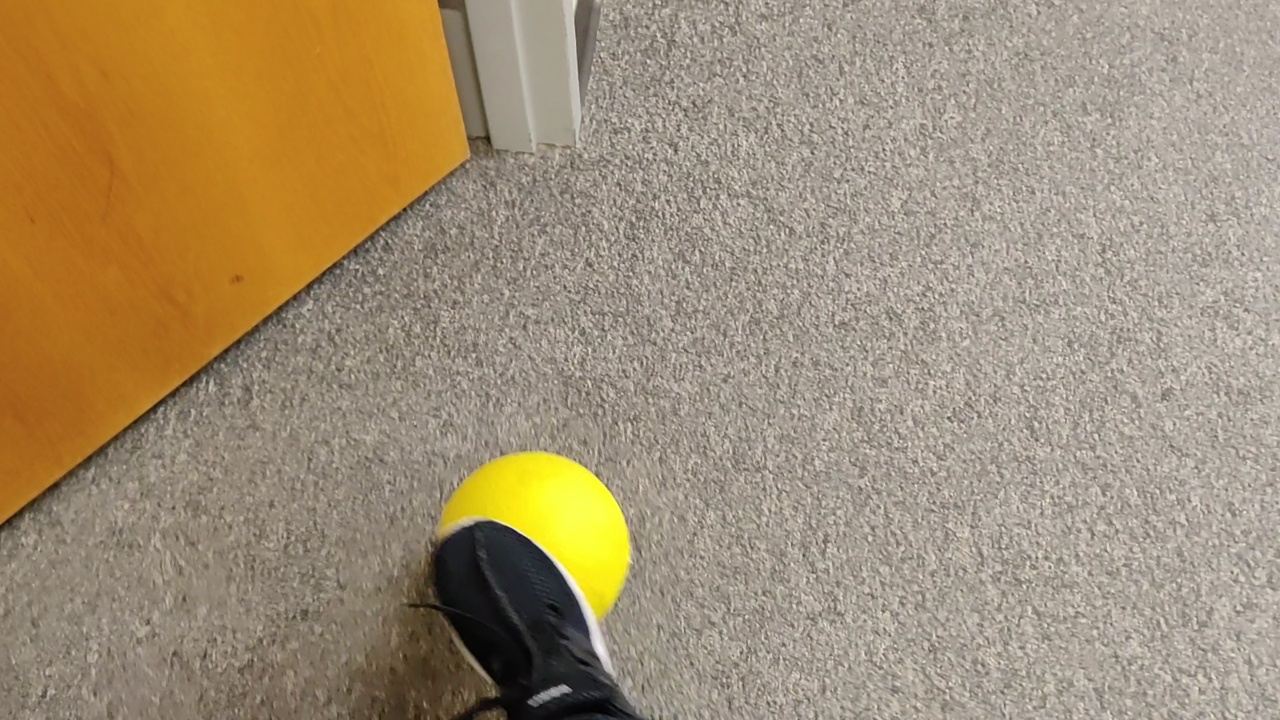Ball: (444, 451, 632, 626)
